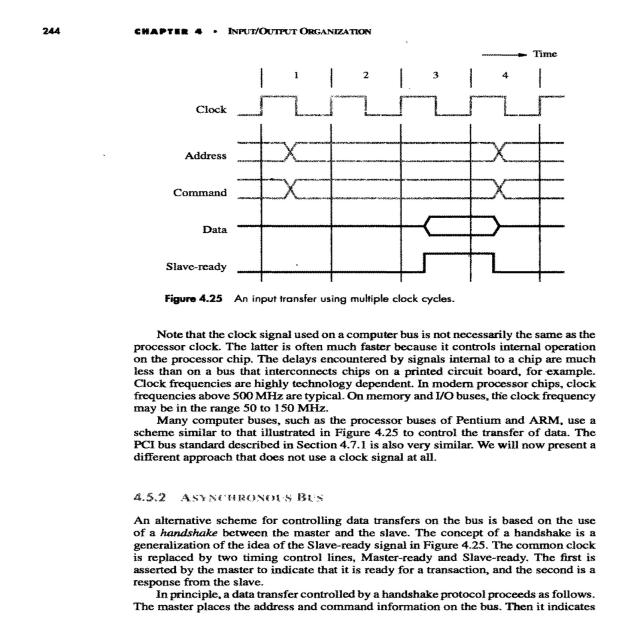diagram: (125, 45, 592, 315)
